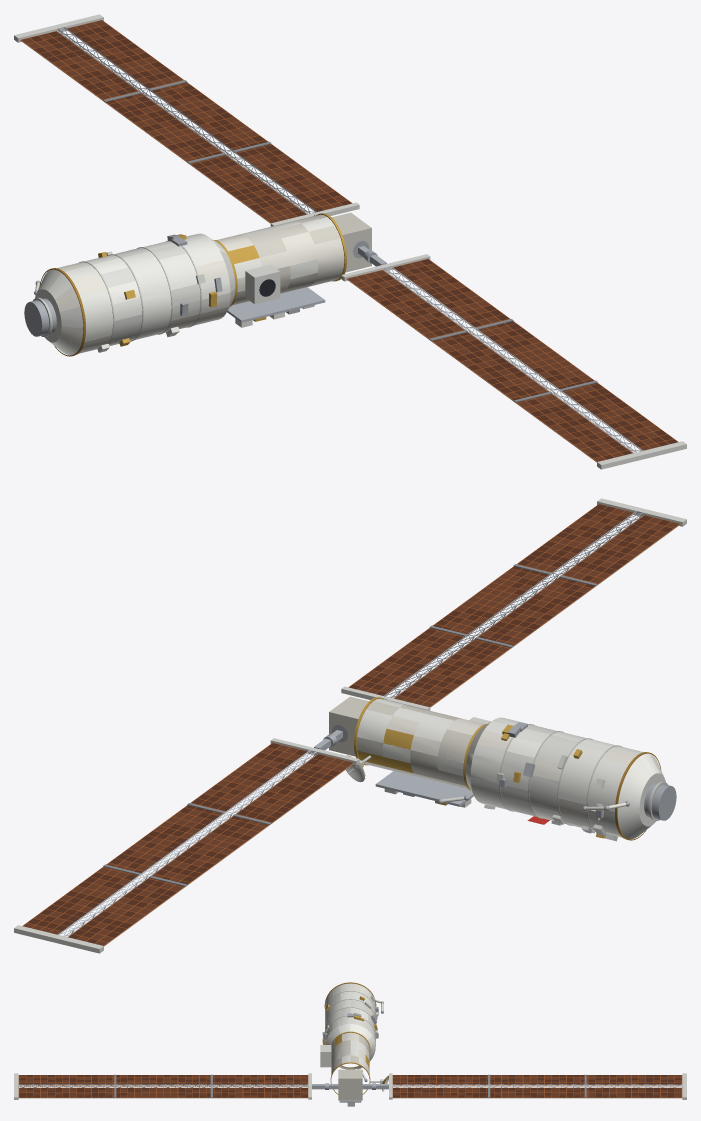
The model's file is mengtian.glb.
The picture shows the model from 3 angles, top to bottom: view 1: azimuth 30°, elevation 25°; view 2: azimuth 150°, elevation 25°; view 3: azimuth 270°, elevation 25°; orthographic projection. The views are drawn at different scales.
Parts seen in each view (by area): view 1: solar-panel, body, foil; view 2: solar-panel, body, foil; view 3: solar-panel, body, foil.
Boxes of the visible parts, left/top/right/bottom form: solar-panel: left=20, top=20, right=678, bottom=461; body: left=14, top=14, right=686, bottom=469; foil: left=35, top=212, right=371, bottom=356; solar-panel: left=22, top=504, right=680, bottom=945; body: left=14, top=498, right=686, bottom=953; foil: left=329, top=696, right=664, bottom=840; solar-panel: left=18, top=1075, right=682, bottom=1097; body: left=14, top=983, right=686, bottom=1106; foil: left=322, top=982, right=388, bottom=1100.
Bounding box in the file's own units: 19.75 × 5.12 × 55.8.
